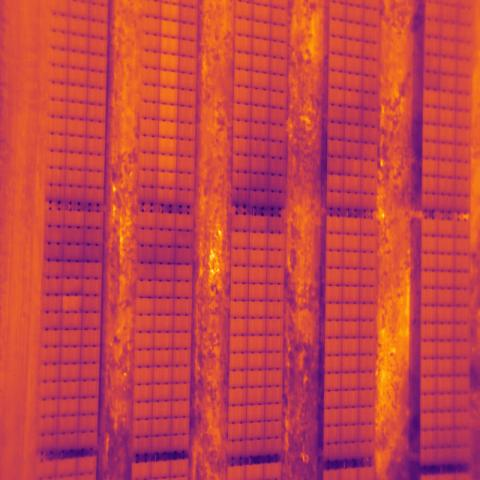fault: (158, 0, 179, 204), (61, 295, 84, 314)
